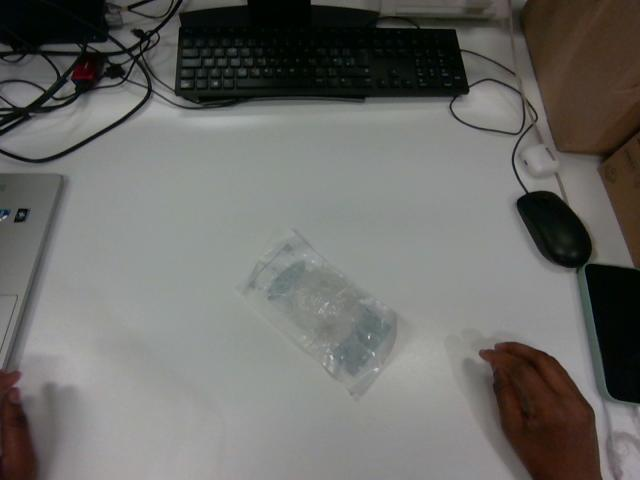gallipot: (240, 231, 396, 395)
